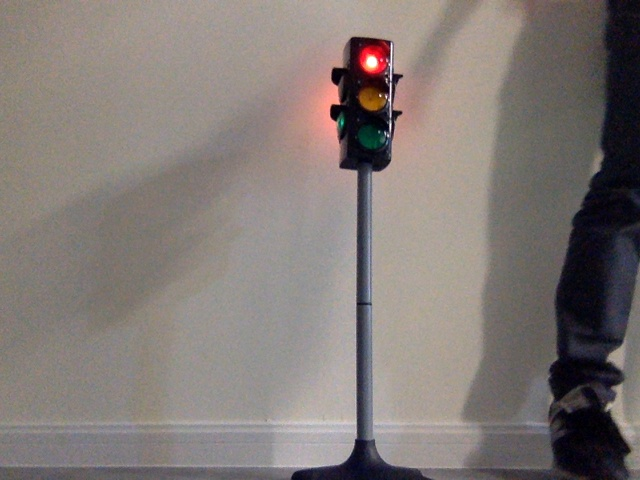red: (349, 43, 387, 154)
